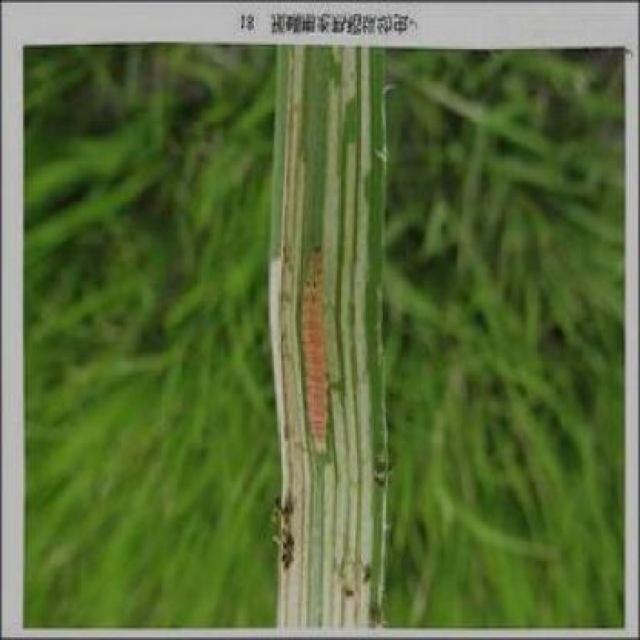leaf-folder: (285, 229, 352, 465)
